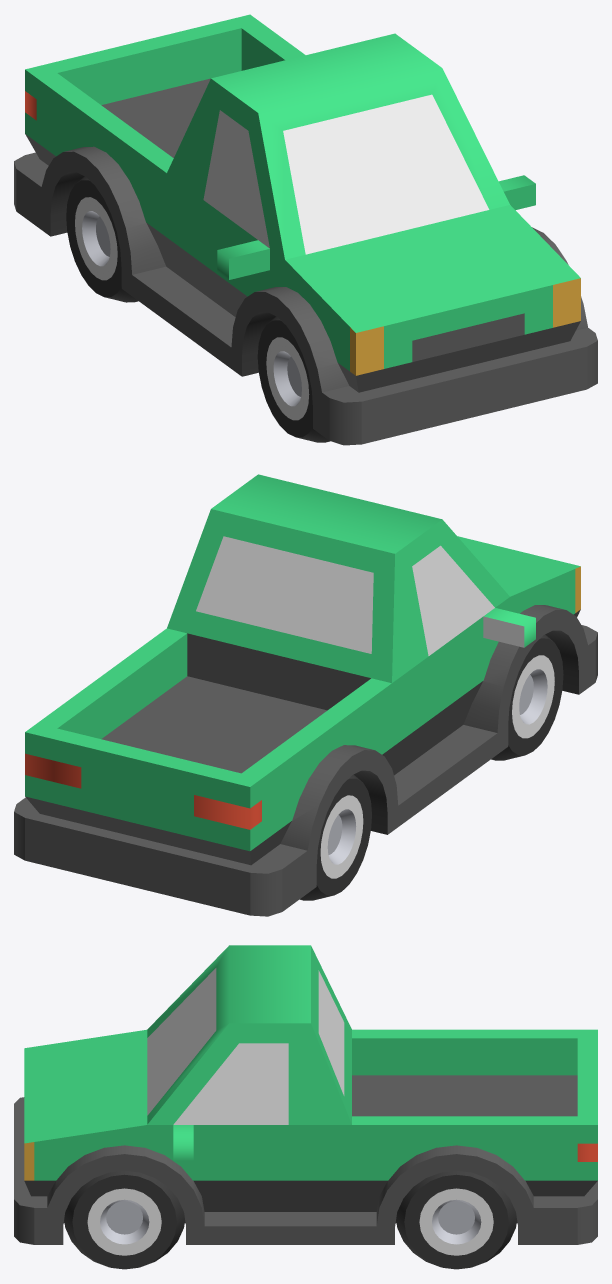
Rendered from truck.obj.
3 renders of one model, top to bottom at view 1: azimuth 30°, elevation 25°; view 2: azimuth 150°, elevation 25°; view 3: azimuth 270°, elevation 25°, orthographic. The views are drawn at different scales.
Visible parts, largest first — view 1: body, wheel_backRight, wheel_frontRight; view 2: body, wheel_backRight, wheel_frontRight; view 3: body, wheel_frontLeft, wheel_backLeft.
Part boxes in pixels (<box>): body: <box>14,14,597,445</box>; wheel_backRight: <box>66,176,138,302</box>; wheel_frontRight: <box>257,316,330,442</box>; body: <box>14,474,597,916</box>; wheel_backRight: <box>300,774,371,900</box>; wheel_frontRight: <box>491,634,563,760</box>; body: <box>14,945,597,1244</box>; wheel_frontLeft: <box>64,1170,184,1269</box>; wheel_backLeft: <box>396,1170,516,1269</box>.
Size of the model in its own units: 1.5 by 1.3 by 2.85.
